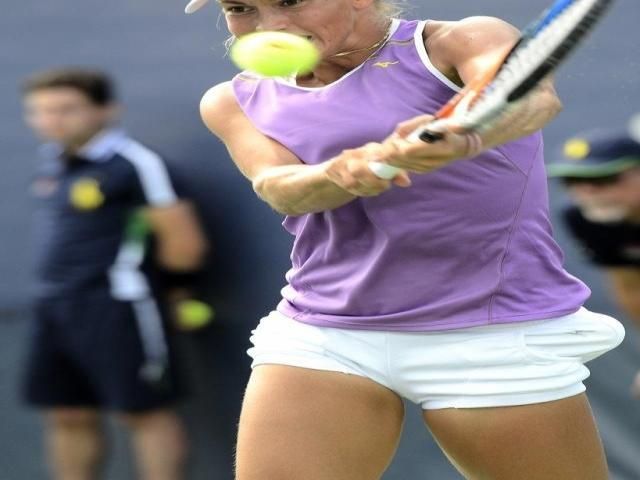tennis-ball: (229, 31, 320, 79)
